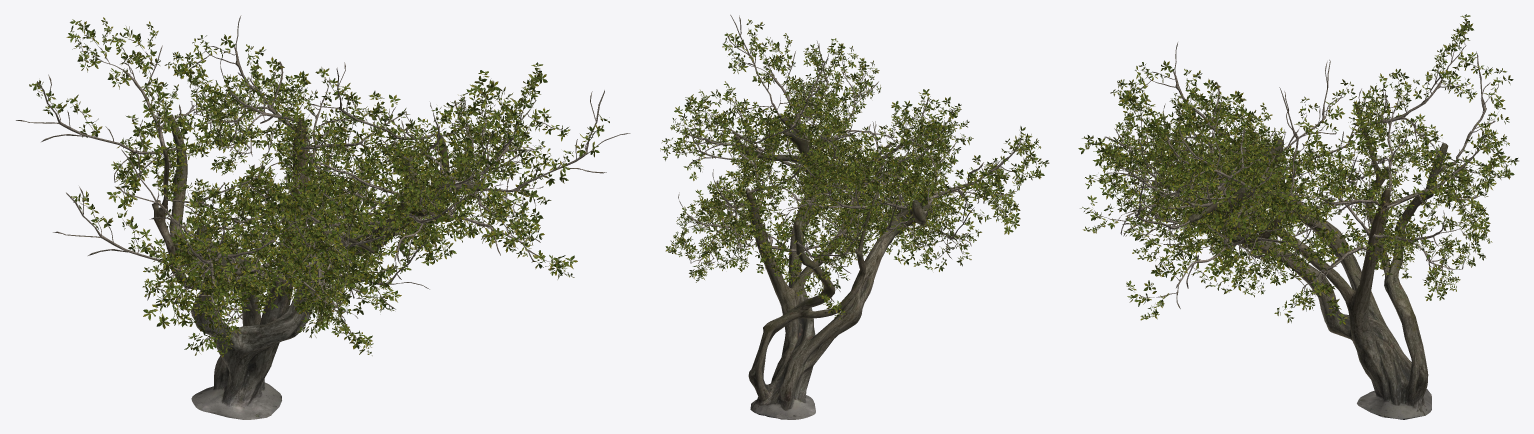
Rendered from island-tree-02.glb.
3 views of the same model, side by side, from view 1: azimuth 30°, elevation 25°; view 2: azimuth 150°, elevation 25°; view 3: azimuth 270°, elevation 25° (orthographic). The views are drawn at different scales.
Parts seen in each view (by area): view 1: island_tree_02_LOD0; view 2: island_tree_02_LOD0; view 3: island_tree_02_LOD0.
Part boxes in pixels (x1,y1,x2,y2): island_tree_02_LOD0: (16,15,630,419); island_tree_02_LOD0: (660,14,1049,419); island_tree_02_LOD0: (1078,14,1518,419).
Size of the model in its own units: 4.21 by 3.41 by 4.07.
Materials: 3 (3 with a texture image).
